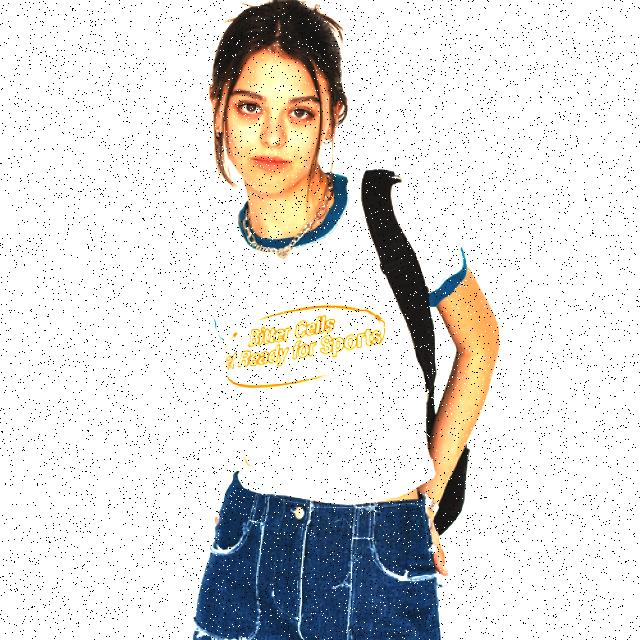dress: (185, 164, 465, 499)
